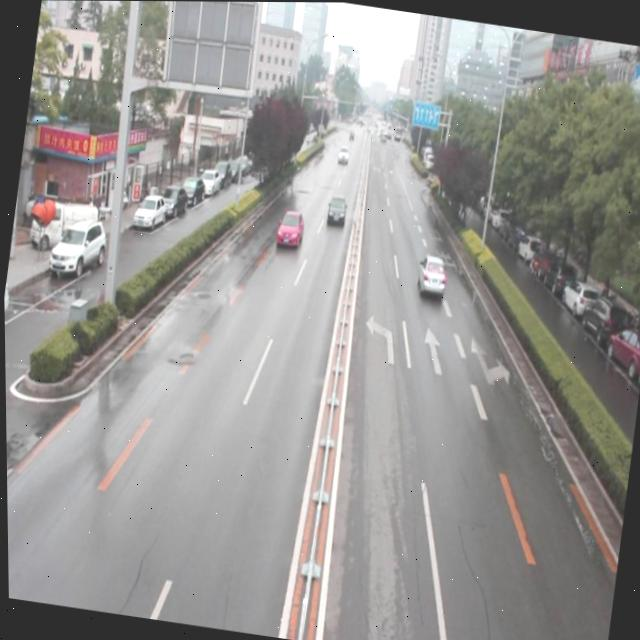car: (411, 248, 449, 297), (274, 205, 305, 247), (324, 192, 347, 225), (335, 144, 349, 164)
